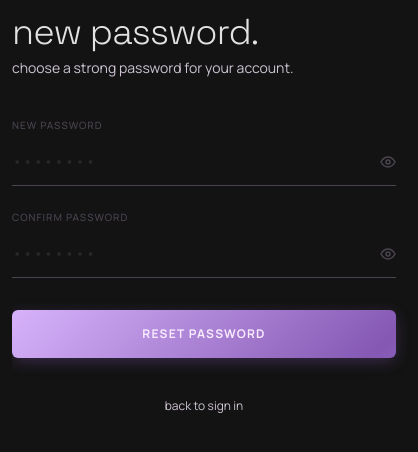
Scenario: ResetPasswordForm › shows mismatch error when passwords do not match
Type "NewPass1!" into the password field labelled "new password" at (204, 162), box [12,137,396,186]
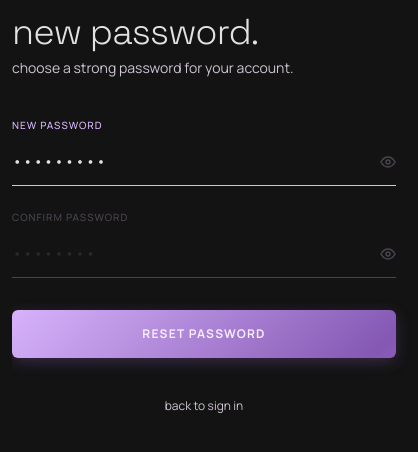
Type "Different1!" into the password field labelled "confirm password" at (204, 254), box [12,229,396,278]
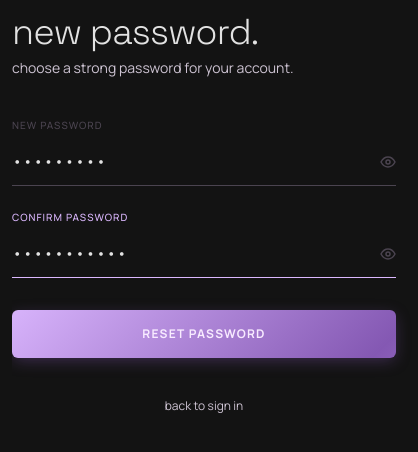
Click the button "reset password" at (204, 334), box [12,310,396,358]
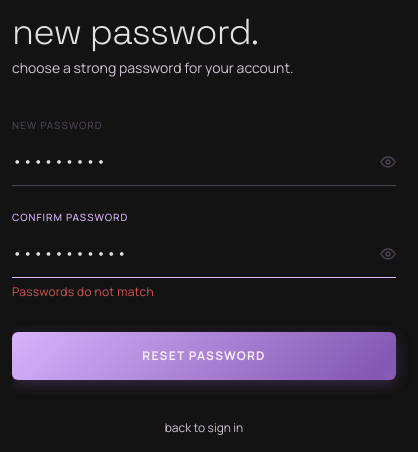
expect the text "Passwords do not match" is shown: met, box [12,283,154,300]
